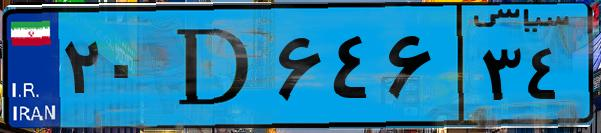0: (110, 28, 158, 98)
2: (57, 26, 110, 100)
3: (475, 38, 525, 113)
4: (330, 28, 385, 110), (525, 38, 570, 115)
6: (270, 28, 330, 110), (385, 28, 445, 110)
D: (158, 12, 270, 120)
